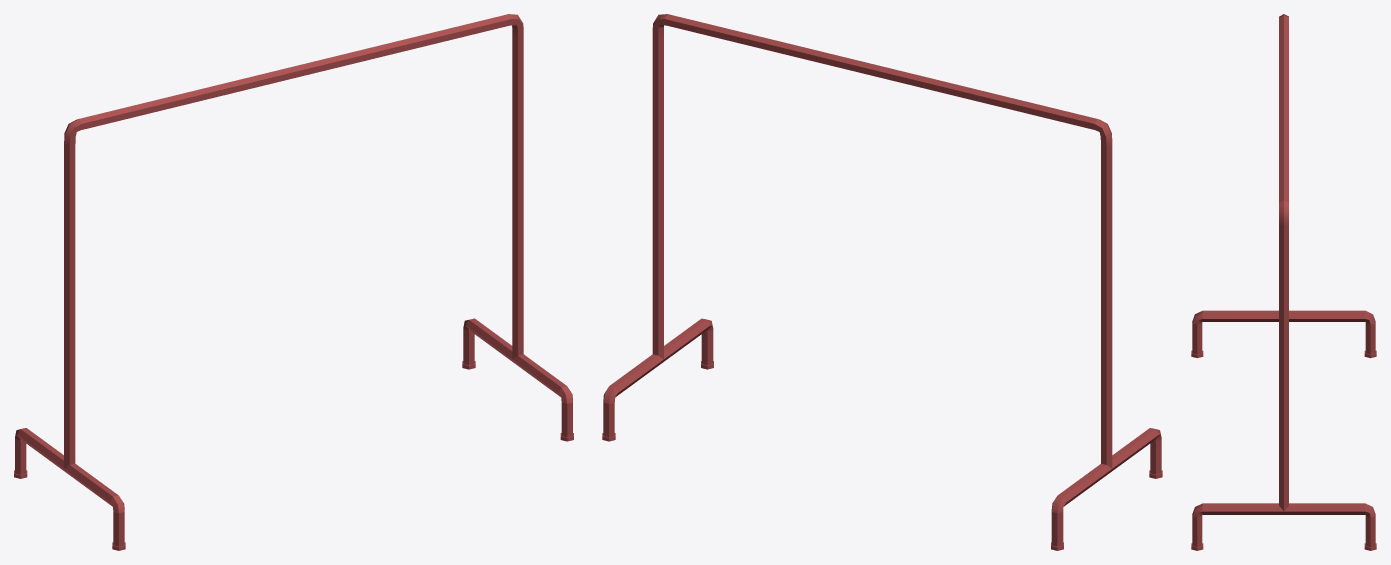
Rendered from seguranca-obj_arara.fbx.
The picture shows the model from 3 angles, left to right: view 1: azimuth 30°, elevation 25°; view 2: azimuth 150°, elevation 25°; view 3: azimuth 270°, elevation 25°; orthographic projection. The views are drawn at different scales.
Visible parts, largest first — view 1: Arara; view 2: Arara; view 3: Arara.
Part boxes in pixels (x1,y1,x2,y2): Arara: (14,14,573,550); Arara: (602,14,1162,550); Arara: (1191,14,1376,550).
Size of the model in its own units: 46.43 by 37.54 by 18.29.
